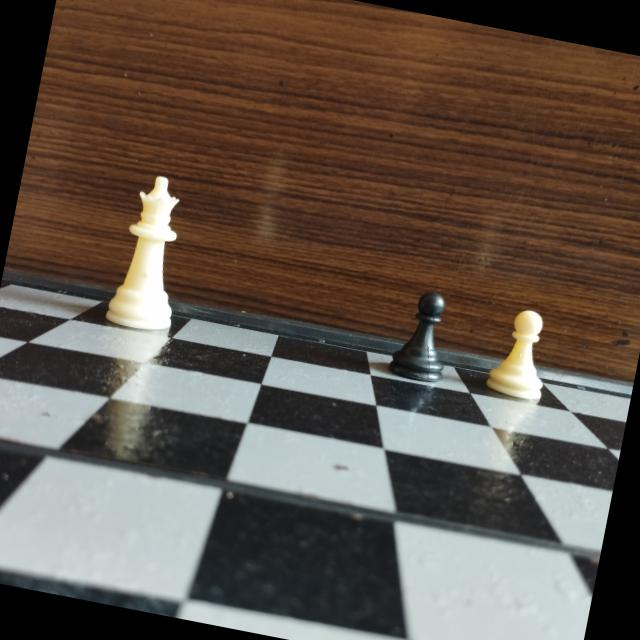Black Pawn: (384, 276, 464, 388)
White Pawn: (484, 300, 564, 408)
White Queen: (101, 167, 204, 341)
